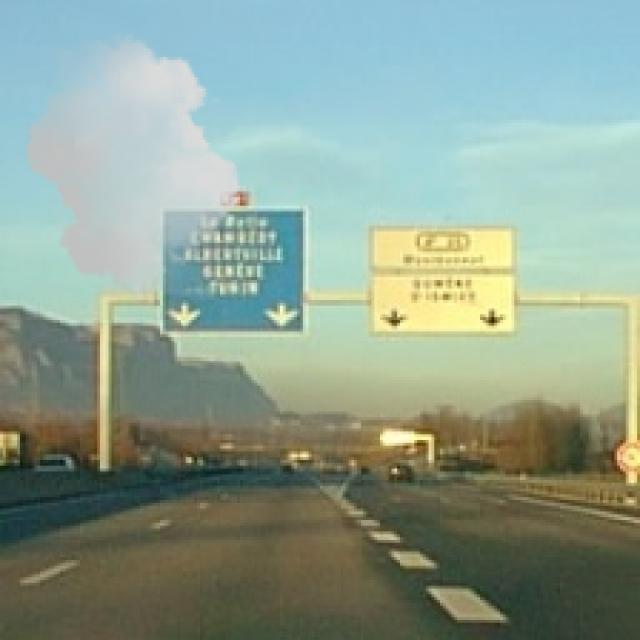smoke: (17, 34, 249, 300)
